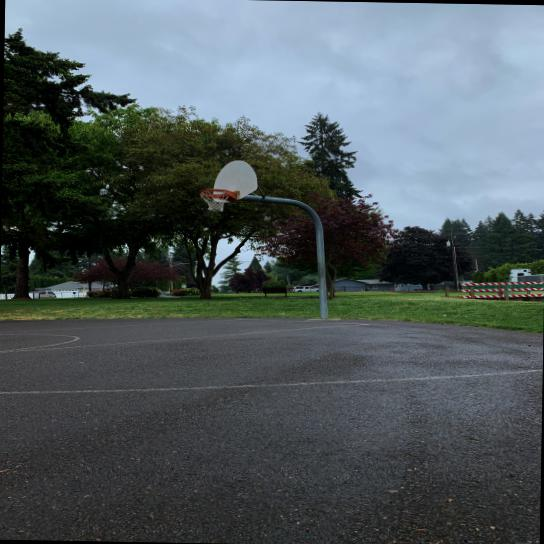basketball-hoop: (198, 188, 230, 212)
